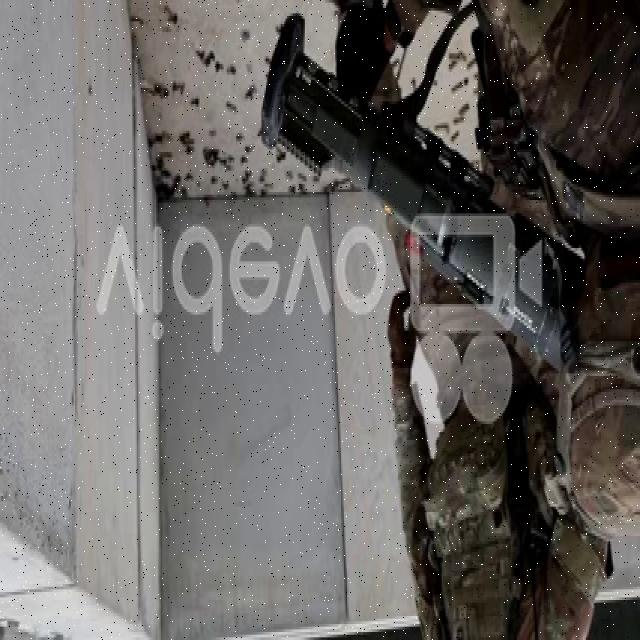bazooka: (256, 6, 578, 369)
